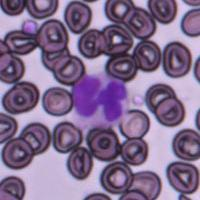N: (71, 72, 130, 128)
